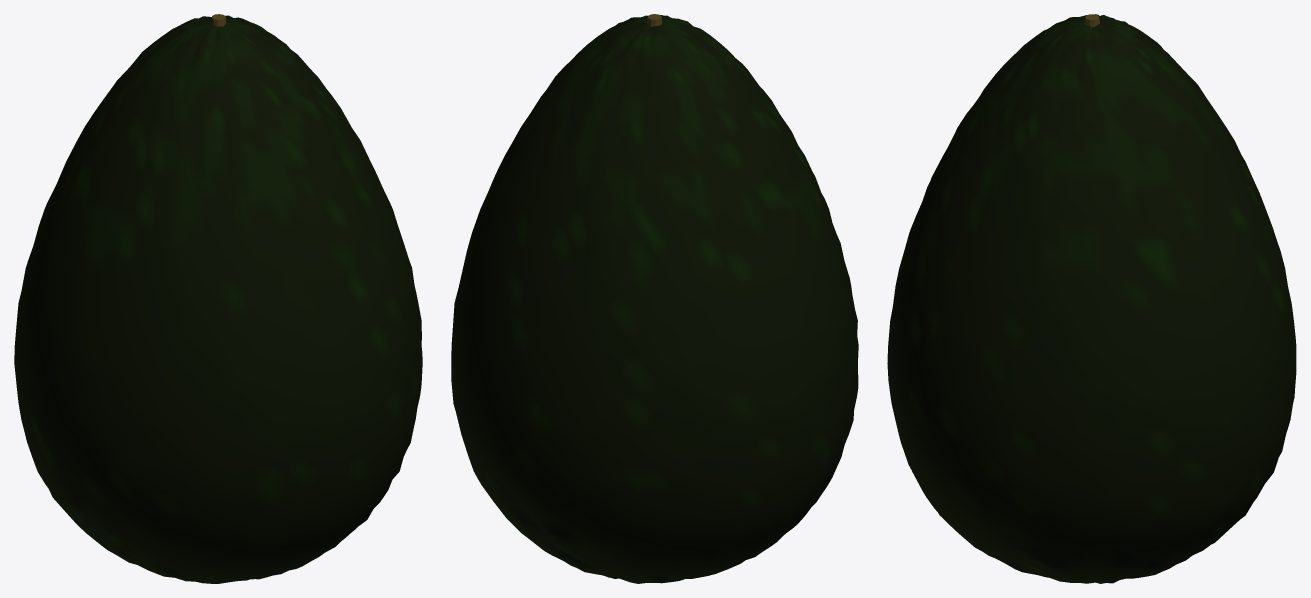
File: avocat.glb
3 views of the same model, side by side, from view 1: azimuth 30°, elevation 25°; view 2: azimuth 150°, elevation 25°; view 3: azimuth 270°, elevation 25° (orthographic).
Parts seen in each view (by area): view 1: entier_peau, moitie_B_peau, moitie_A_peau; view 2: entier_peau, moitie_A_peau, moitie_B_peau; view 3: entier_peau, moitie_A_peau, moitie_B_peau.
Part boxes in pixels (x1,y1,x2,y2): entier_peau: (14, 15, 422, 583); moitie_B_peau: (42, 21, 422, 583); moitie_A_peau: (14, 16, 261, 534); entier_peau: (451, 15, 858, 583); moitie_A_peau: (451, 21, 830, 583); moitie_B_peau: (611, 17, 858, 530); entier_peau: (887, 14, 1296, 583); moitie_A_peau: (1092, 15, 1295, 582); moitie_B_peau: (888, 16, 1091, 583).
Bounding box in the file's own units: 1.37 × 2.02 × 1.37.
